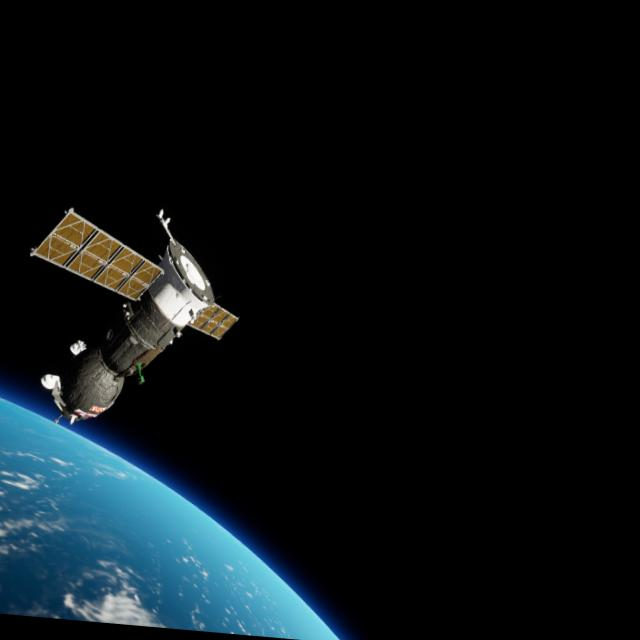Satellites revolving around earth: (13, 194, 249, 442)
